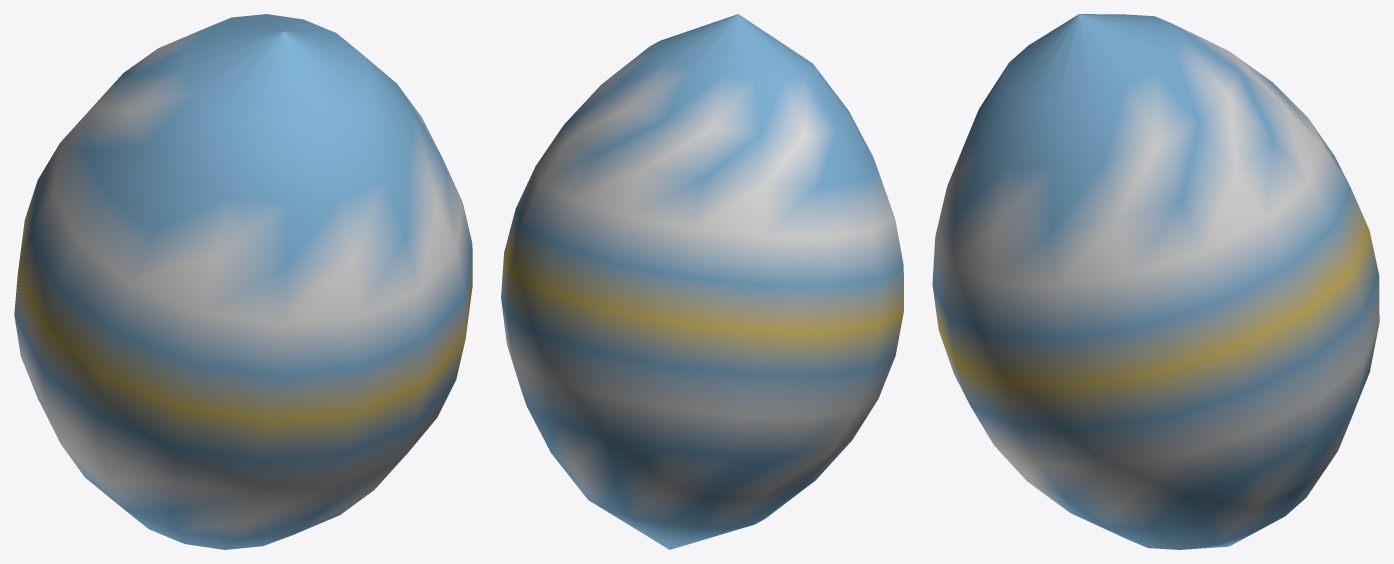
The model's file is item_ev_egg_1.glb.
3 renders of one model, left to right at view 1: azimuth 30°, elevation 25°; view 2: azimuth 150°, elevation 25°; view 3: azimuth 270°, elevation 25°, orthographic. The views are drawn at different scales.
Parts seen in each view (by area): view 1: item_ev_egg_1_gloss; view 2: item_ev_egg_1_gloss; view 3: item_ev_egg_1_gloss.
Boxes of the visible parts, x1,y1,x2,y2 form: item_ev_egg_1_gloss: [14, 14, 472, 549]; item_ev_egg_1_gloss: [501, 14, 903, 549]; item_ev_egg_1_gloss: [932, 14, 1379, 549].
Size of the model in its own units: 0.11 by 0.1453 by 0.1106.
